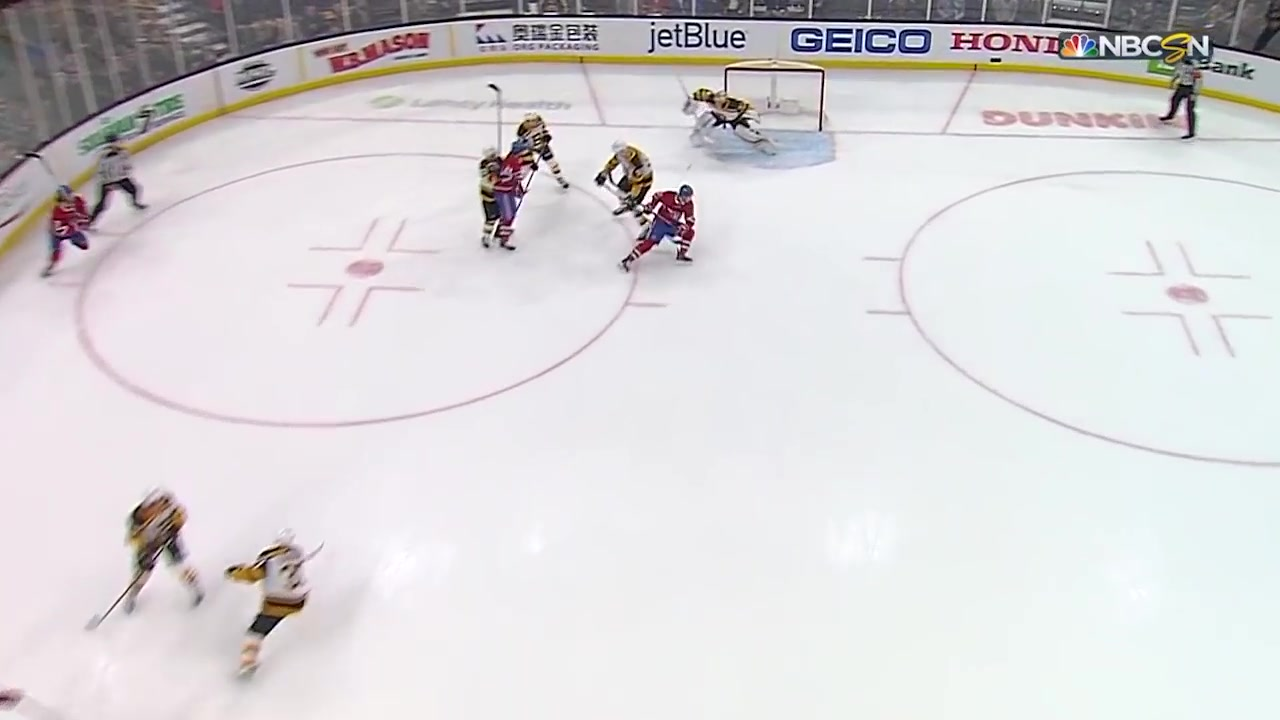geico: (786, 18, 948, 62)
